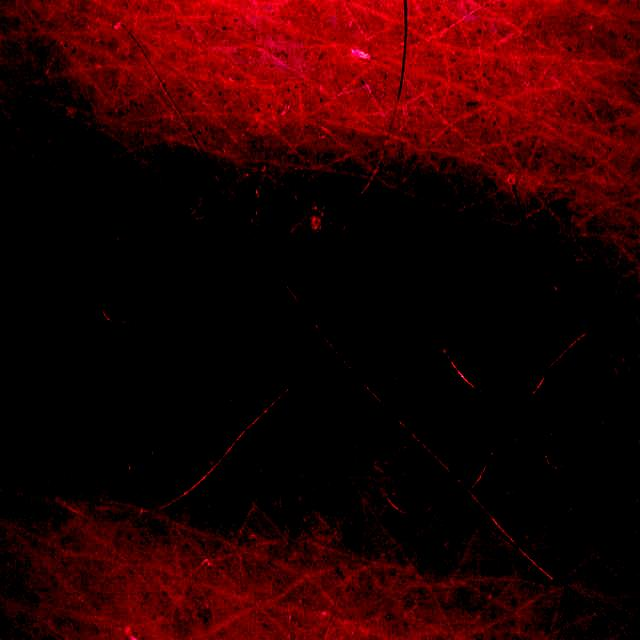NV: (26, 141, 563, 572)
